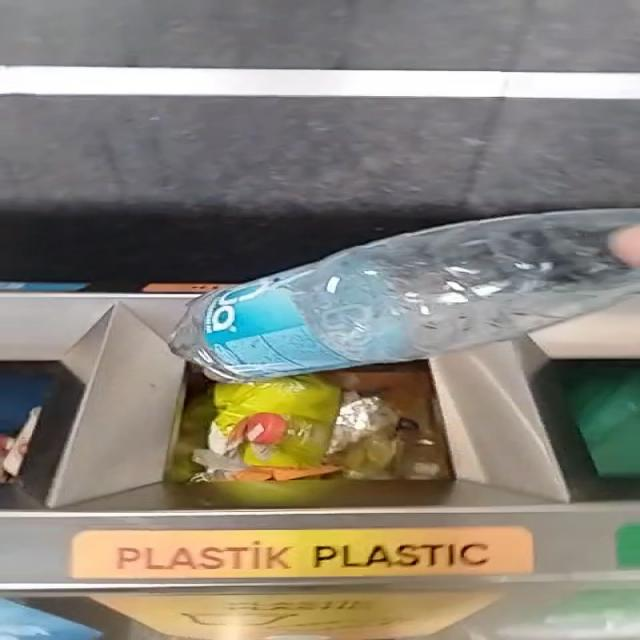plastic: (169, 209, 640, 383)
